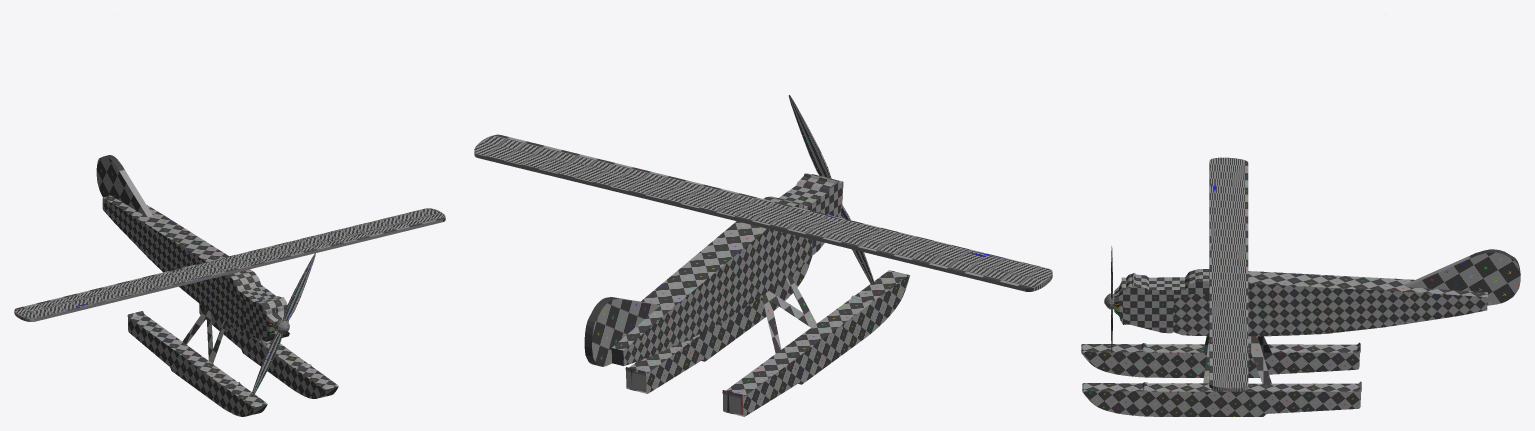
3 views of the same model, side by side, from view 1: azimuth 30°, elevation 25°; view 2: azimuth 150°, elevation 25°; view 3: azimuth 270°, elevation 25° (orthographic). The views are drawn at different scales.
Visible parts, largest first — view 1: Plane, Plane propeller; view 2: Plane, Plane propeller; view 3: Plane.
Part boxes in pixels (x1,y1,x2,y2): Plane: [14, 155, 445, 416]; Plane propeller: [251, 253, 315, 394]; Plane: [474, 134, 1052, 416]; Plane propeller: [788, 95, 874, 283]; Plane: [1081, 157, 1520, 416].
Size of the model in its own units: 69.27 by 49.7 by 55.81.
Materials: 1 (1 with a texture image).
